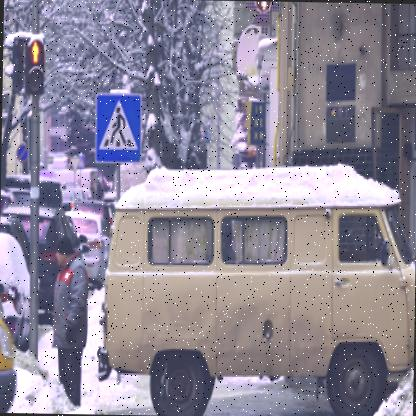crosswalk: (96, 89, 146, 165)
trafficlight: (26, 34, 46, 93), (5, 28, 23, 90)
